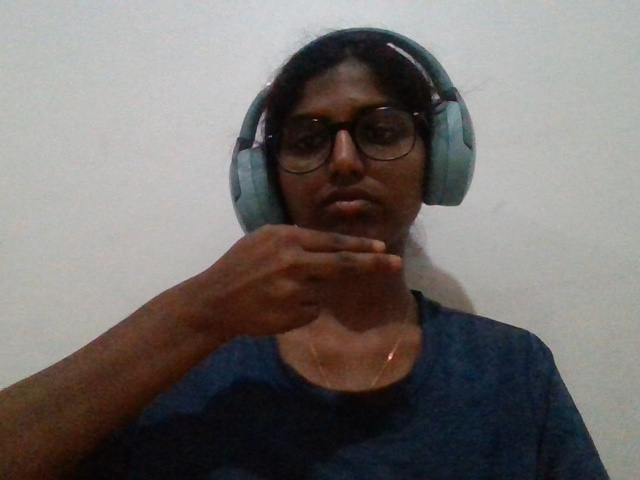H: (175, 212, 457, 377)
